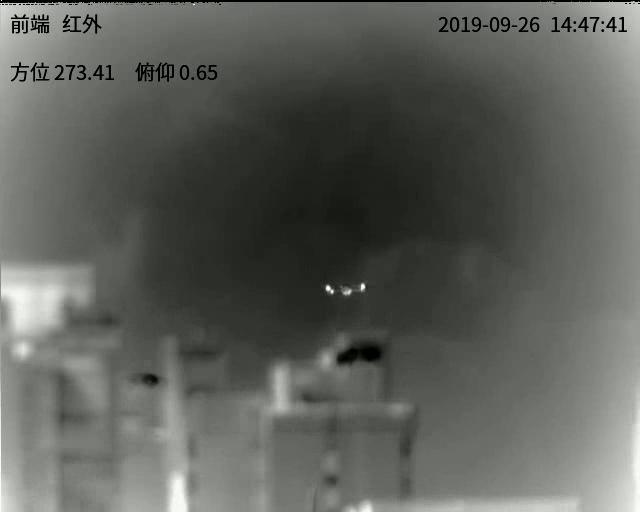DRONE: (322, 280, 367, 296)
